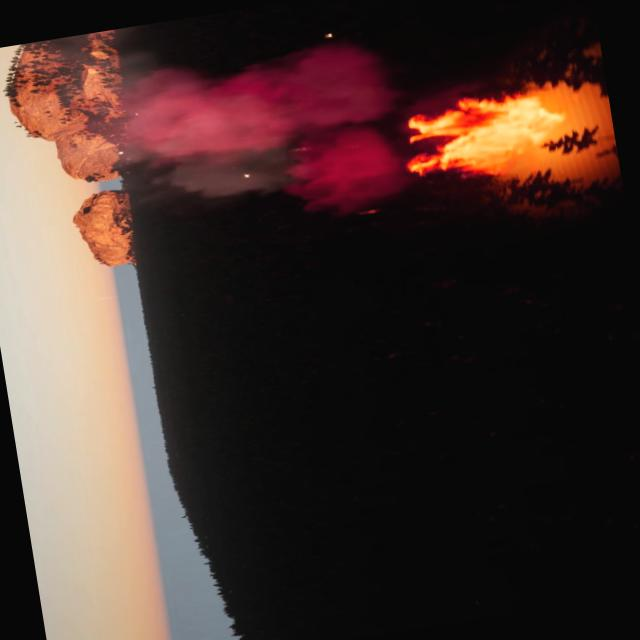fire: (398, 85, 574, 186)
smoke: (63, 11, 412, 242)
